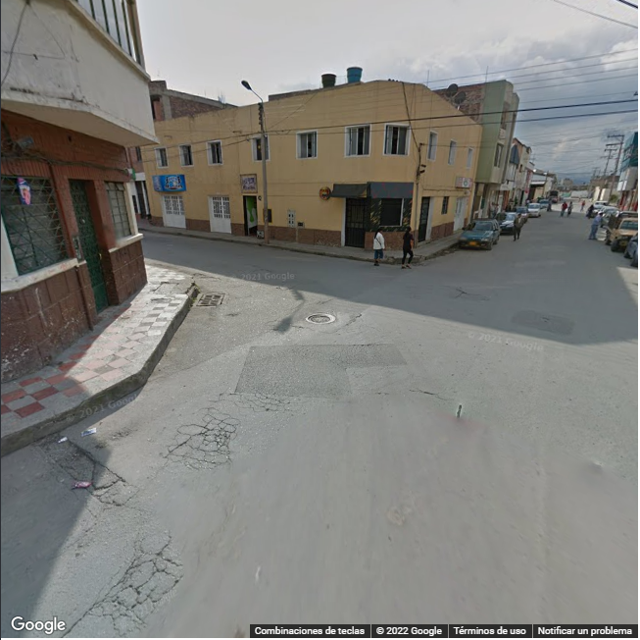D00: (56, 600, 97, 637)
D10: (397, 383, 456, 404)
D20: (104, 536, 176, 635), (156, 404, 246, 464)
